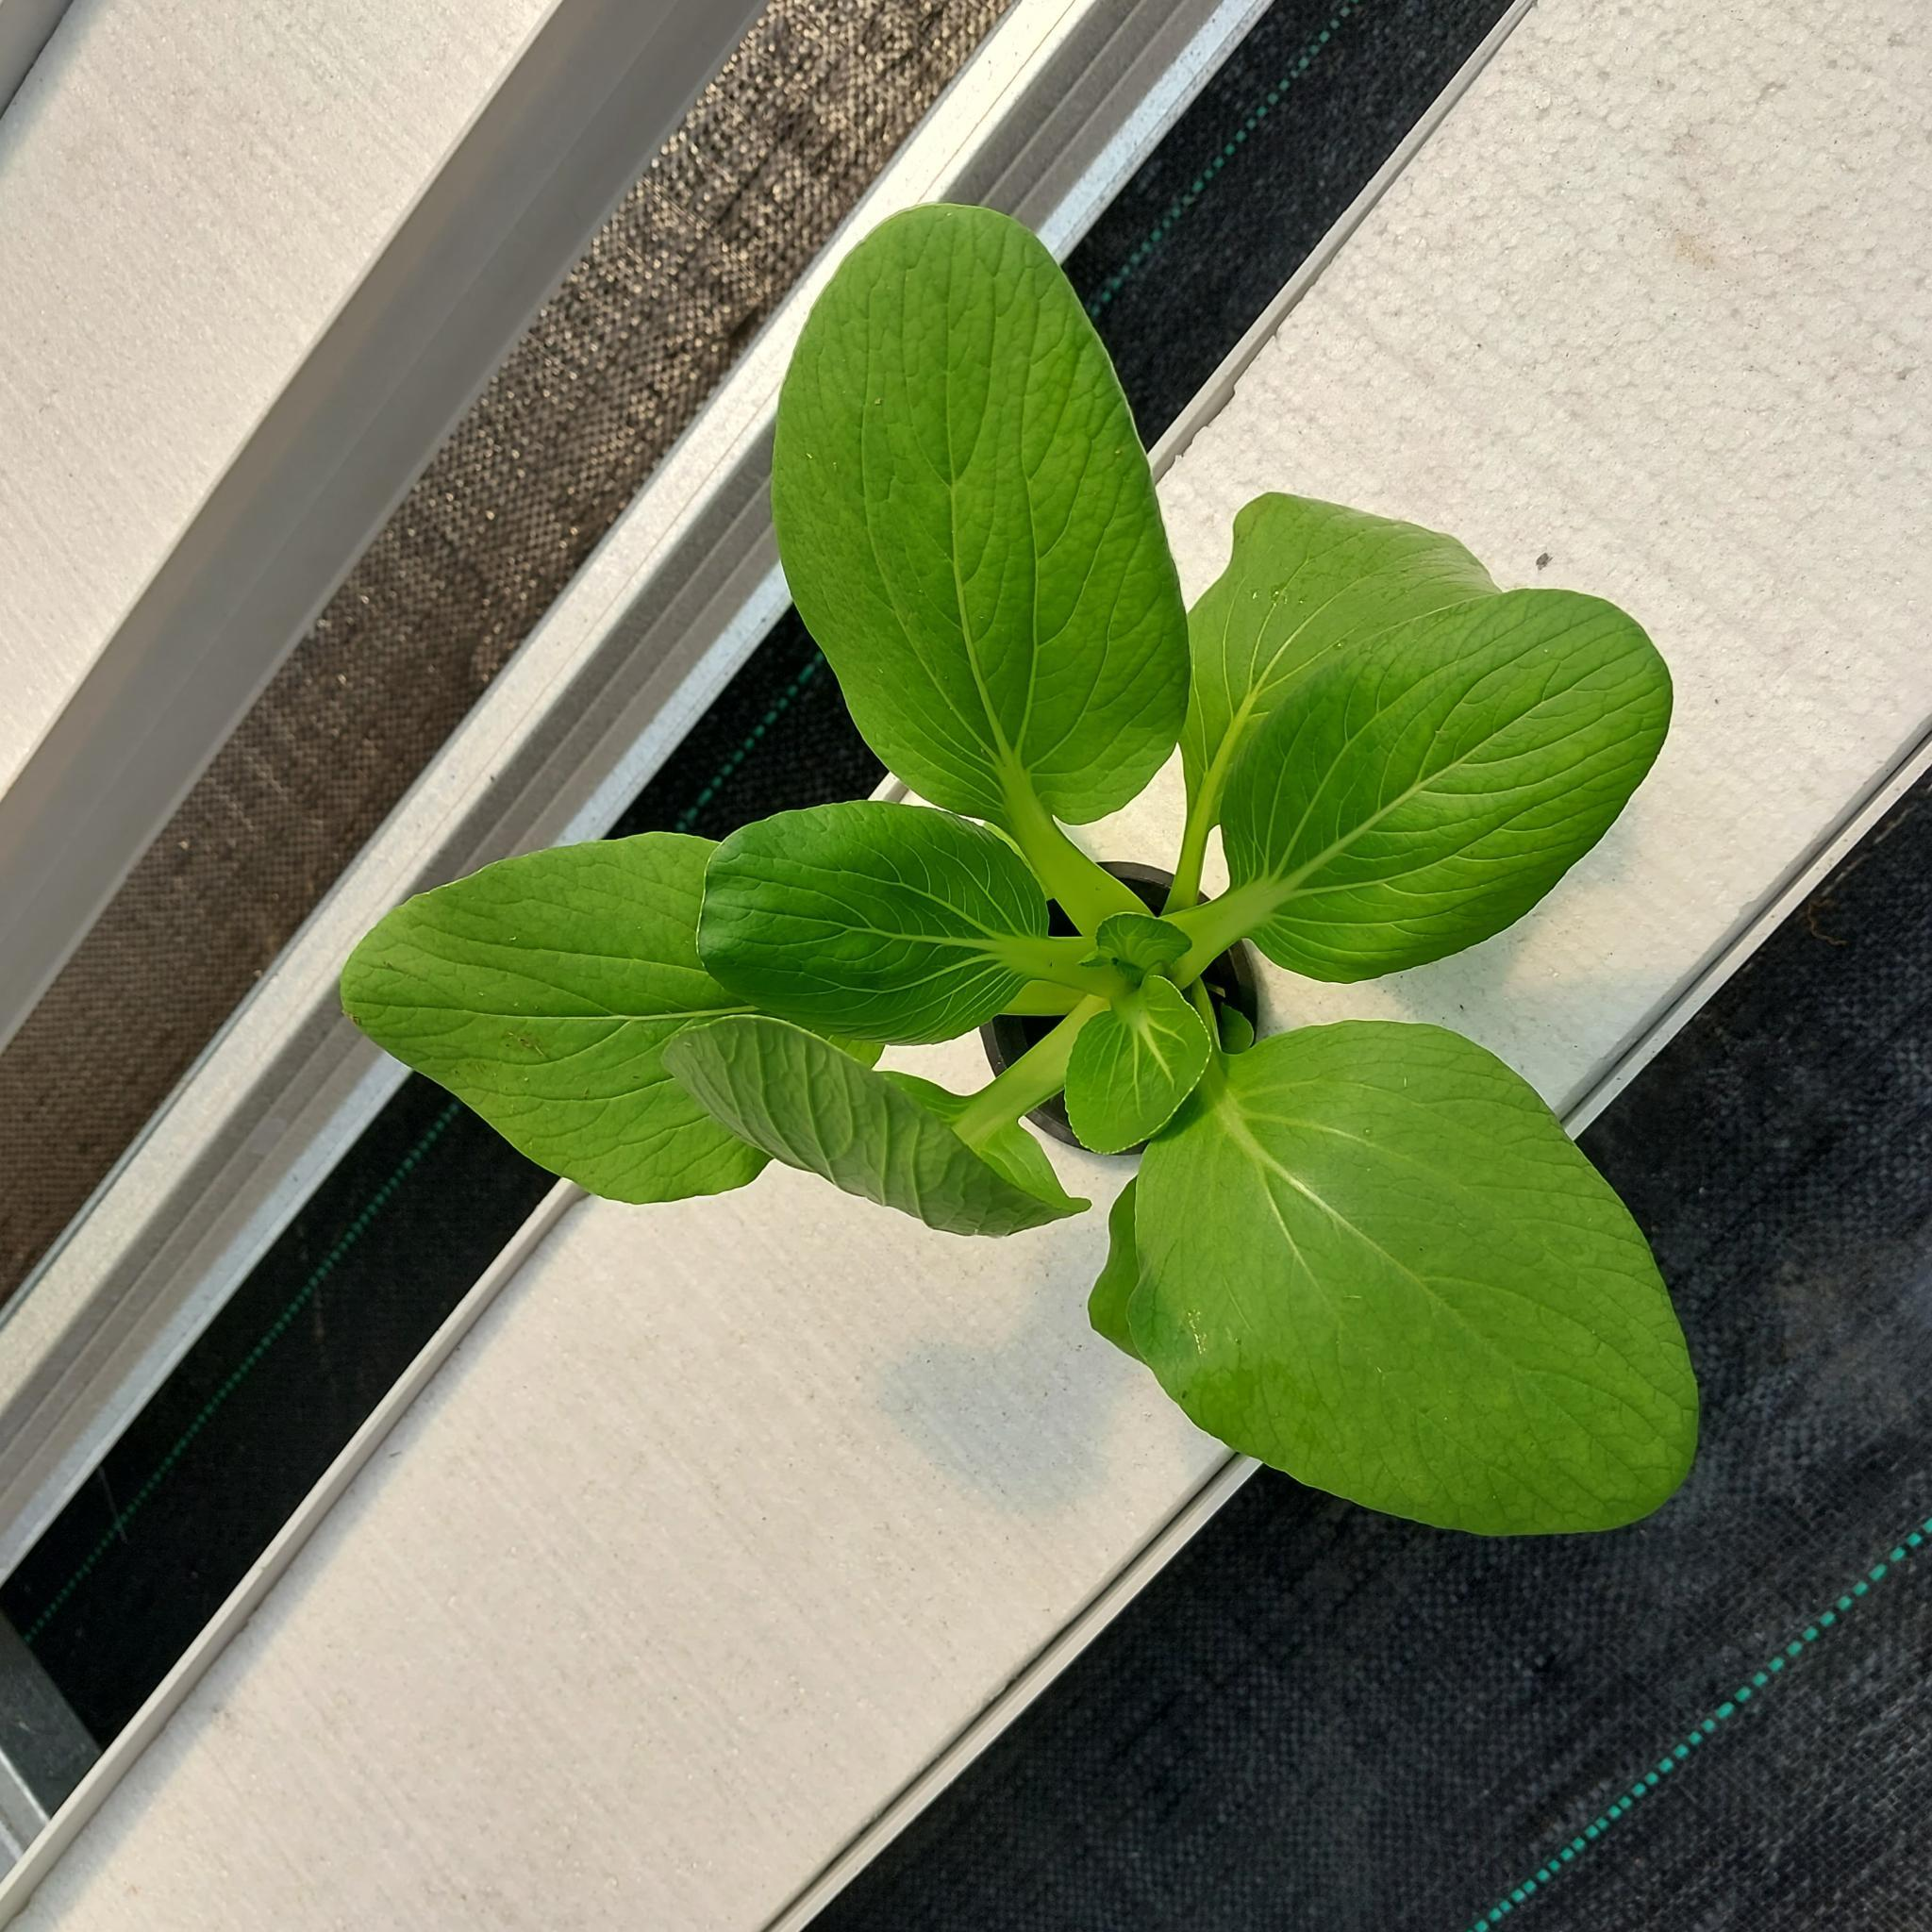Healthy-Pechay: (1106, 1019, 1706, 1536), (341, 830, 1051, 1214), (773, 196, 1148, 870), (1185, 552, 1683, 973), (1223, 1106, 1421, 1327), (356, 927, 722, 1039), (1171, 633, 1320, 893)
